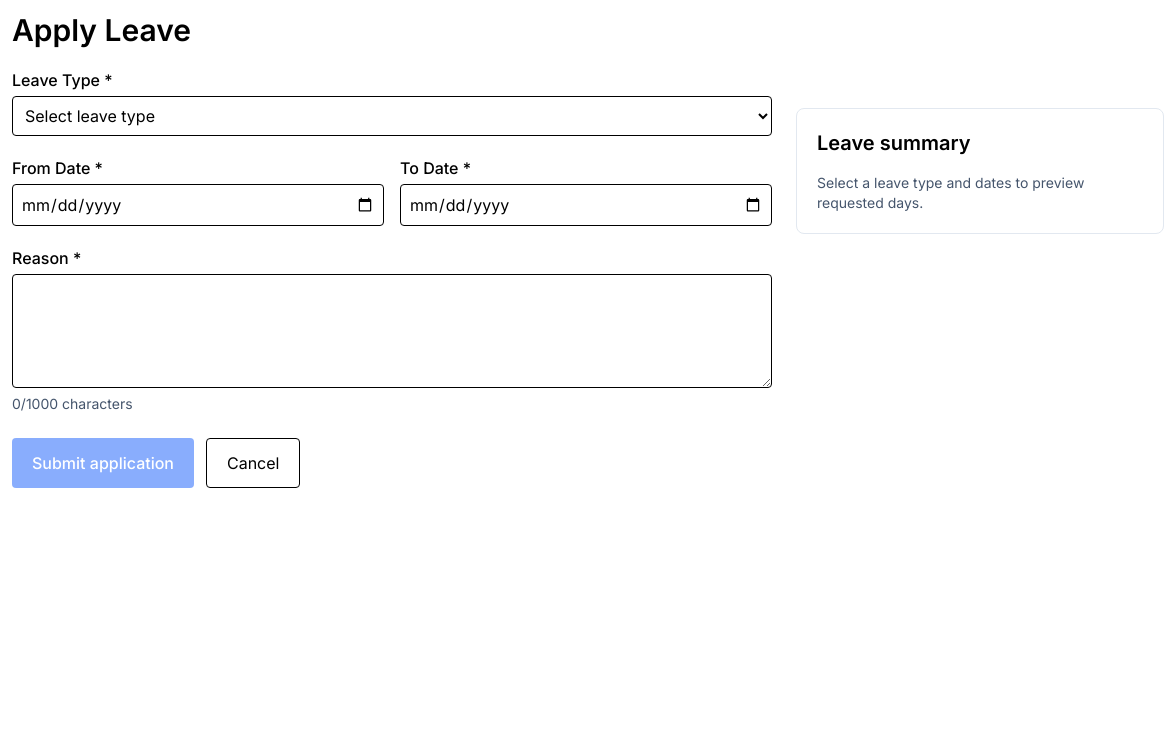
Test: Phase 6 Apply Leave › previews exact fields, trims reason, prevents duplicate clicks, invalidates and navigates
Select "Earned Leave (10 available)" in the dropdown labelled "Leave Type *" at (392, 116), box [12,96,772,136]
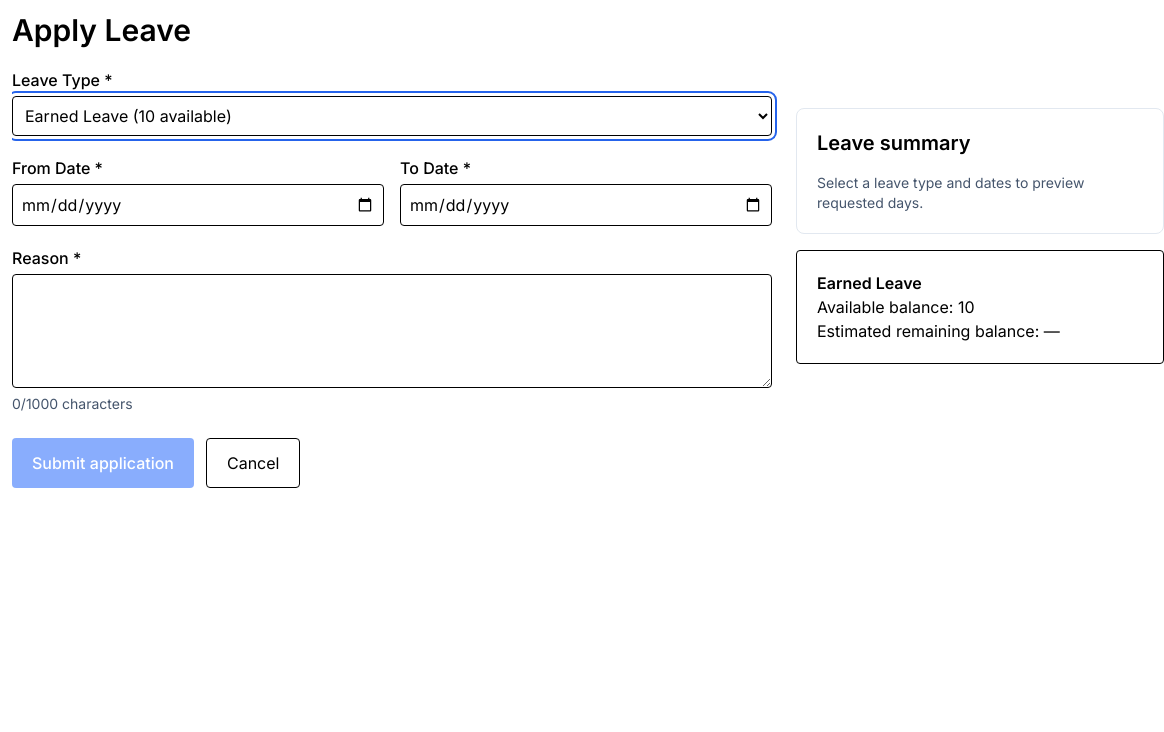
Type "2026-10-12" into the date field labelled "From Date *" at (198, 205), box [12,184,384,226]
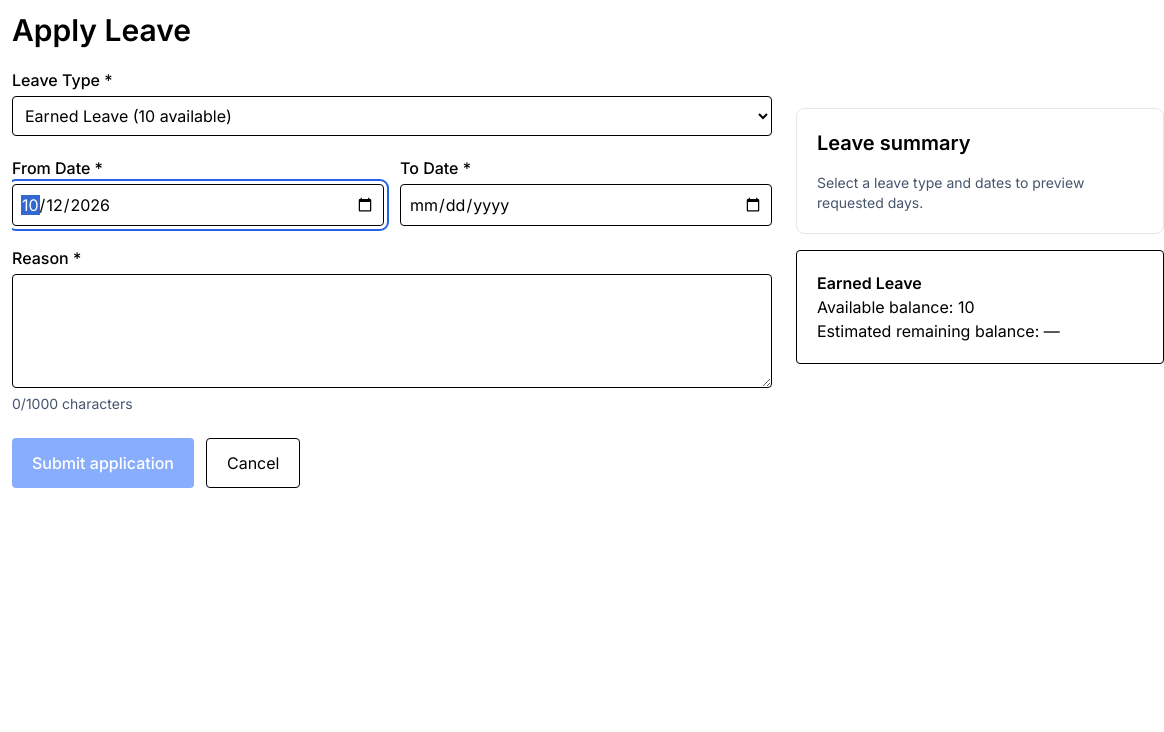
Type "2026-10-13" into the date field labelled "To Date *" at (586, 205), box [400,184,772,226]
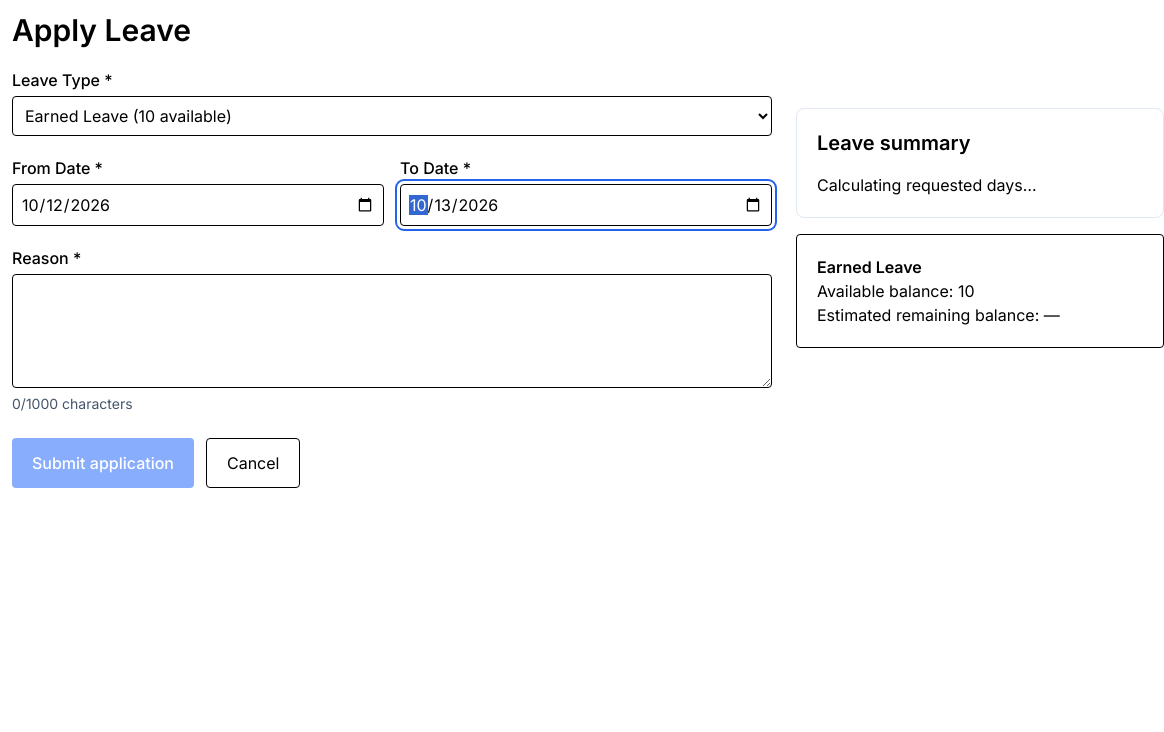
Type " Personal " into the text box labelled "Reason *" at (392, 331), box [12,274,772,388]
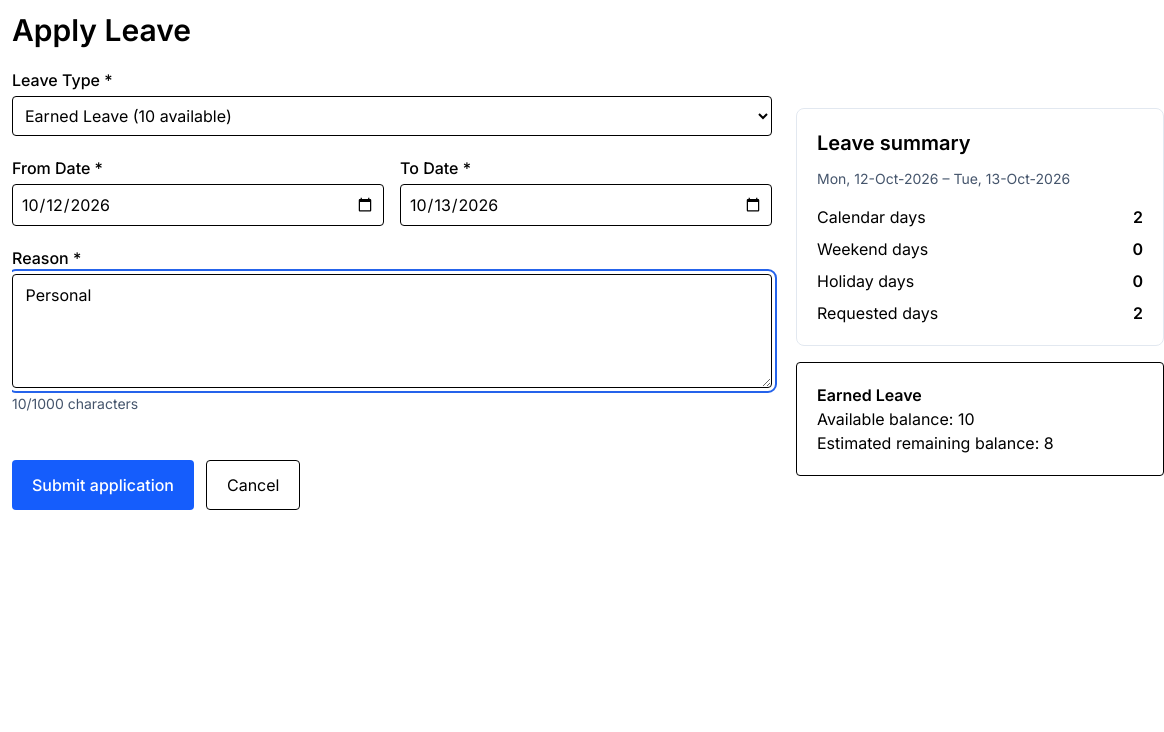
expect the text "Available balance: 10" is shown: met, box [817,409,974,429]
expect the button "Submit application" is enabled: met
expect the text "Estimated remaining balance: 8" is shown: met, box [817,433,1054,453]
Double-click the button "Submit application" at (103, 485), box [12,460,194,510]
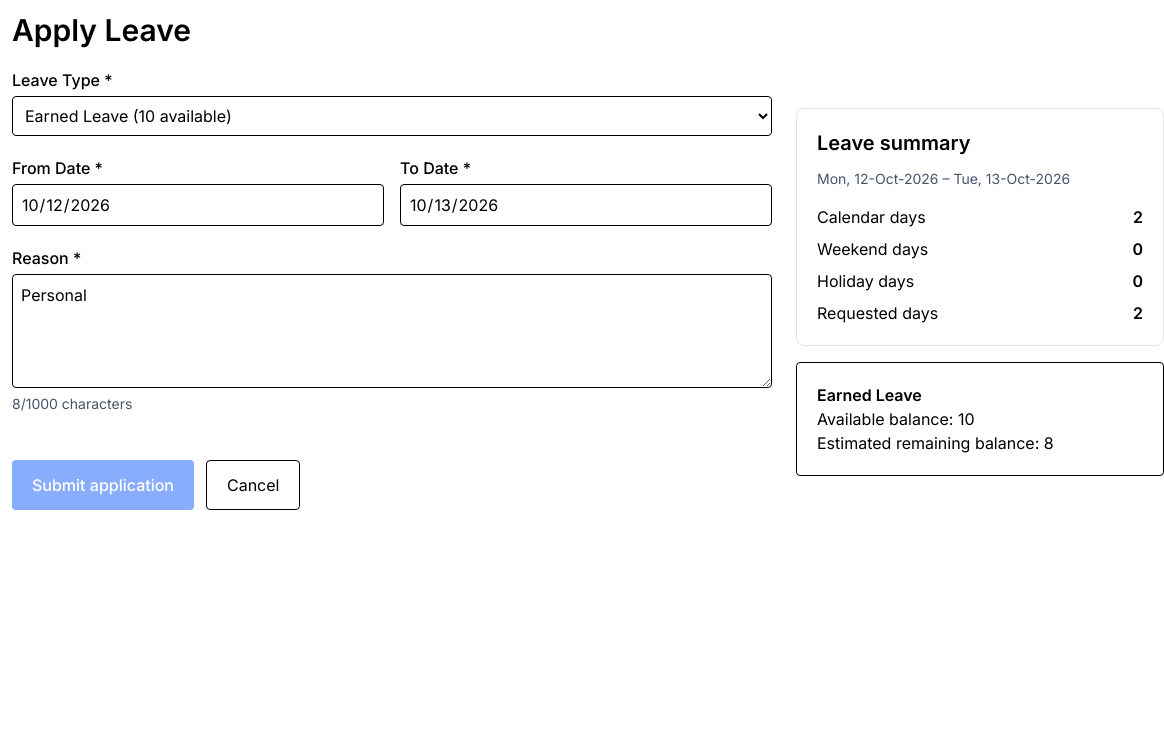
expect the button named "Submitting…" is disabled: met, box [12,460,194,510]
